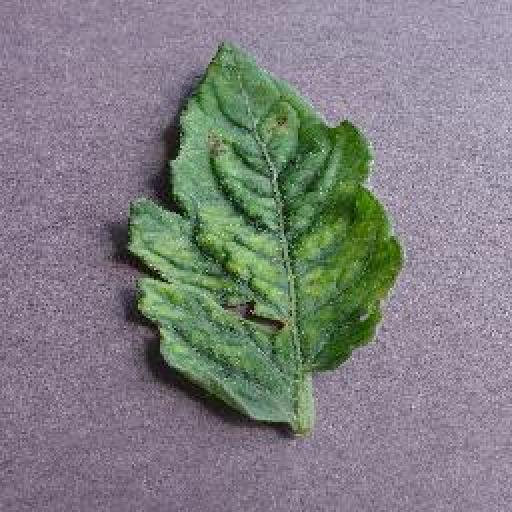disease_tomato: (130, 33, 408, 427)
